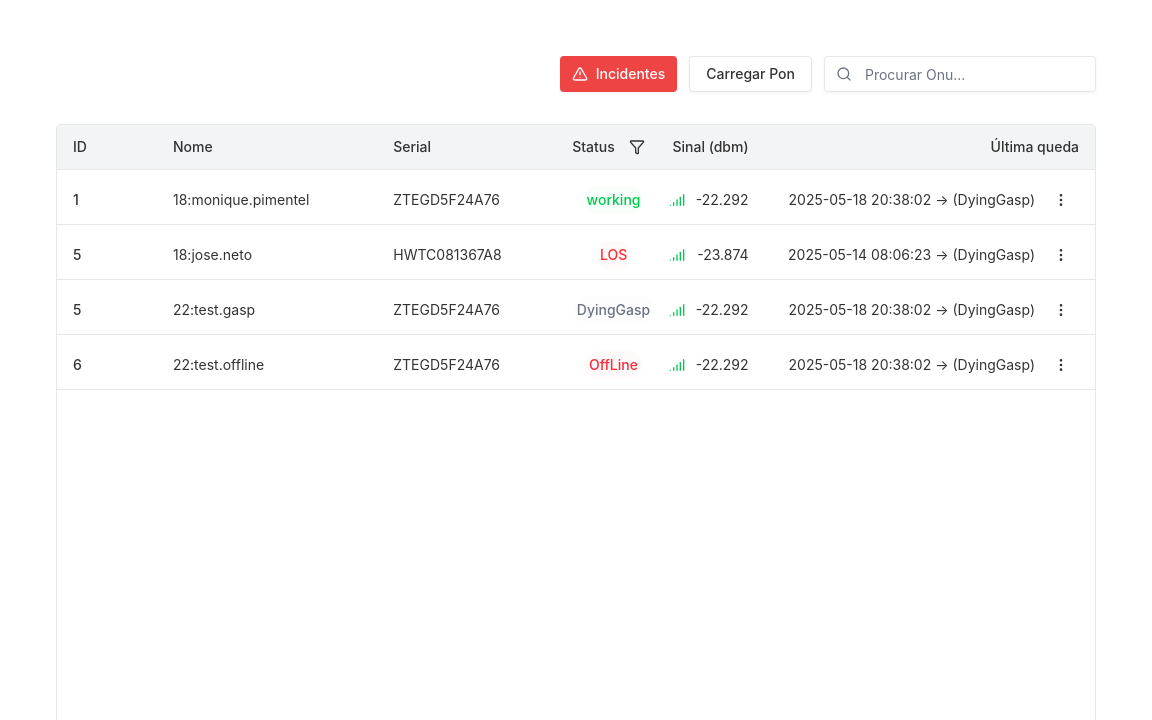
Test: PonScreen Filtrar por state, › Deve filtrar Onus pelo state Working
Step 1. Click the button named "filter-btn" → (637,147), box [619,137,655,157]
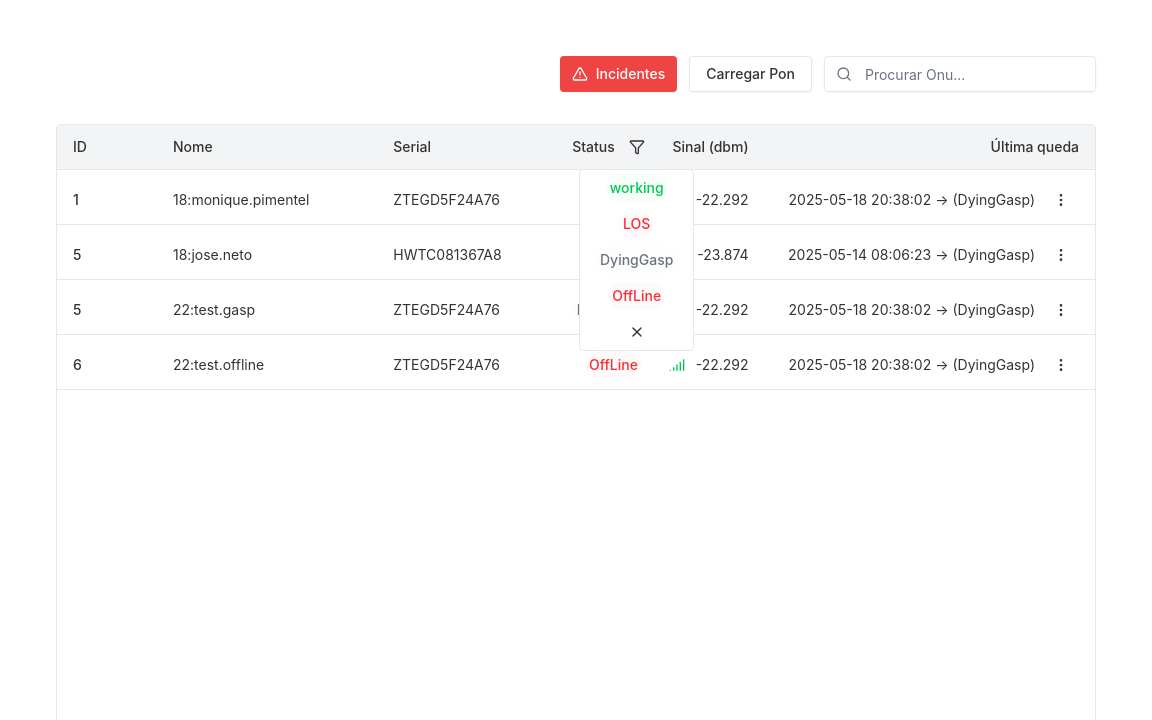
Step 2. Click the button with aria-label "filter-working" → (637,188), box [580,170,693,206]
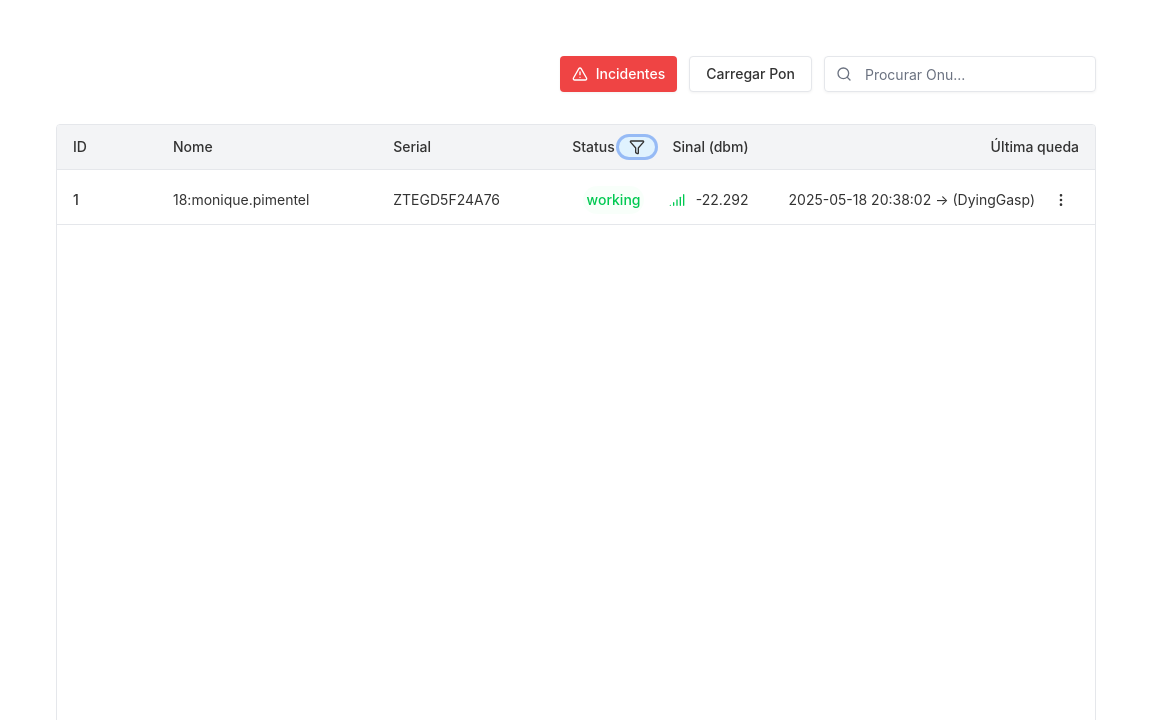
Now the number of elements named "row" is 1, box [57,170,1095,225]
